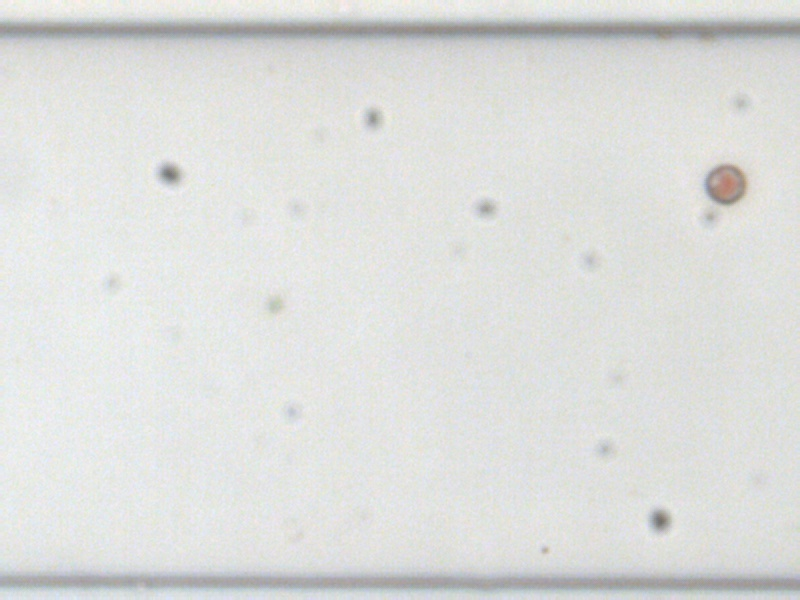Chlorella: (264, 294, 285, 314)
Porphyridium: (704, 162, 748, 204)
